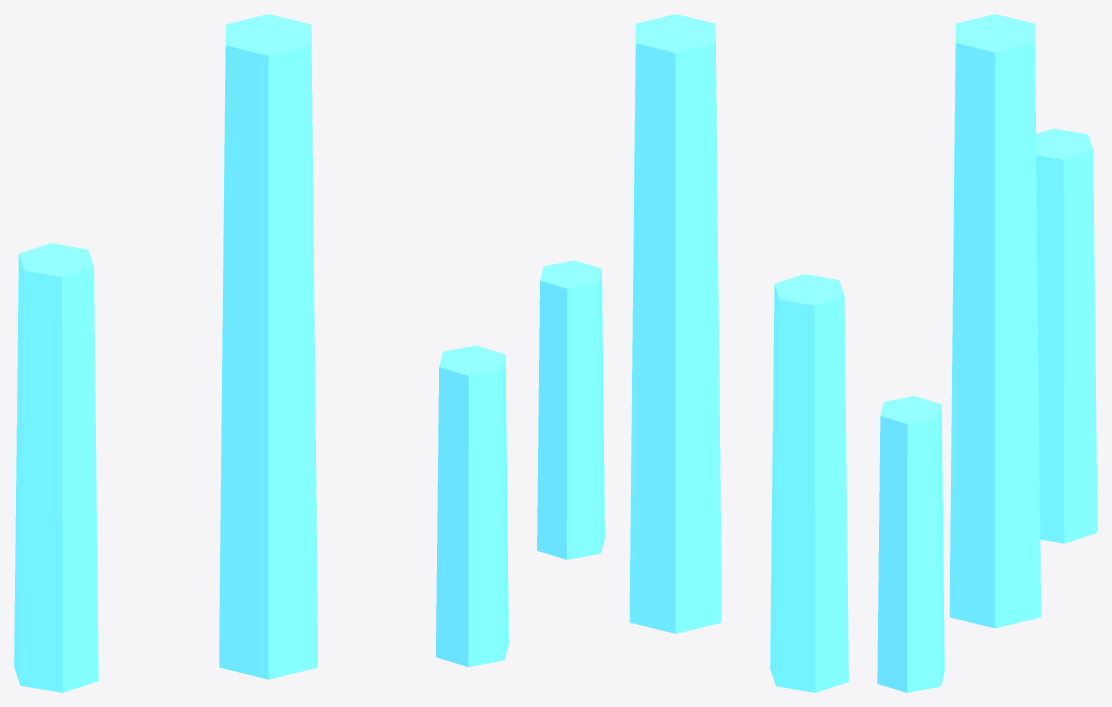
File: crystal.glb
3 renders of one model, left to right at view 1: azimuth 30°, elevation 25°; view 2: azimuth 150°, elevation 25°; view 3: azimuth 270°, elevation 25°, orthographic. The views are drawn at different scales.
Visible parts, largest first — view 1: c1, c2, c3; view 2: c1, c2, c3; view 3: c1, c2, c3.
Boxes of the visible parts, bbox=[...] form: c1: bbox=[219, 14, 317, 679]; c2: bbox=[14, 243, 98, 692]; c3: bbox=[436, 345, 508, 666]; c1: bbox=[629, 14, 721, 633]; c2: bbox=[770, 274, 848, 692]; c3: bbox=[537, 260, 604, 559]; c1: bbox=[949, 14, 1040, 628]; c2: bbox=[1036, 128, 1097, 543]; c3: bbox=[877, 396, 944, 692].
Size of the model in its own units: 0.0207 by 0.03 by 0.0105.
